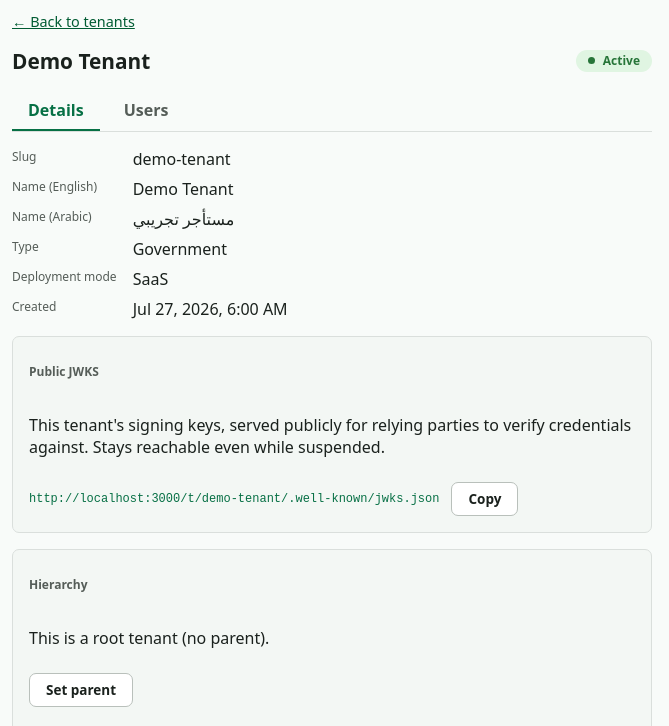
Test: TenantDetailPage on-behalf-of Users tab › switches to the Users tab and lists the tenant's users, with only the Reset 2FA row action
Click the tab "Users".
click(146, 111)  # box [108,91,184,131]
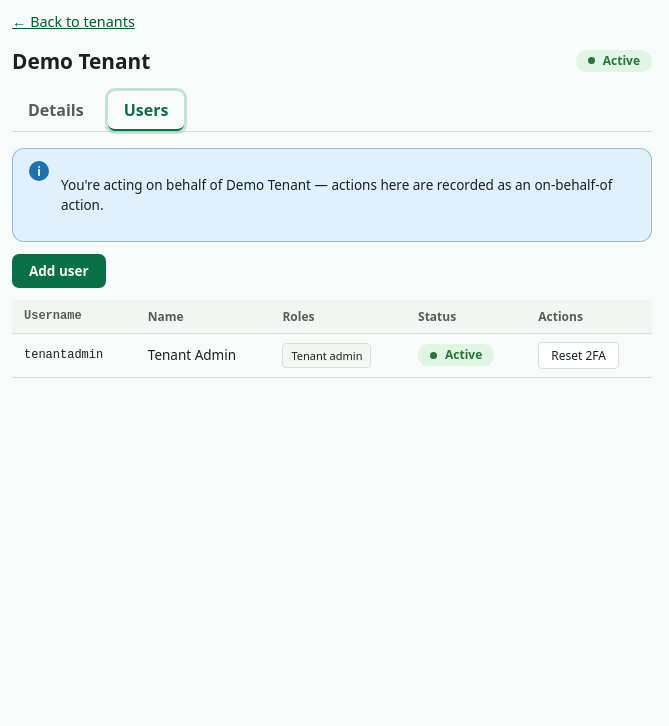
expect the text "tenantadmin" is shown: met, box [12,333,136,377]
expect the text "Tenant Admin" is shown: met, box [136,333,270,377]
expect the column heading "Actions" is shown: met, box [526,300,652,333]
